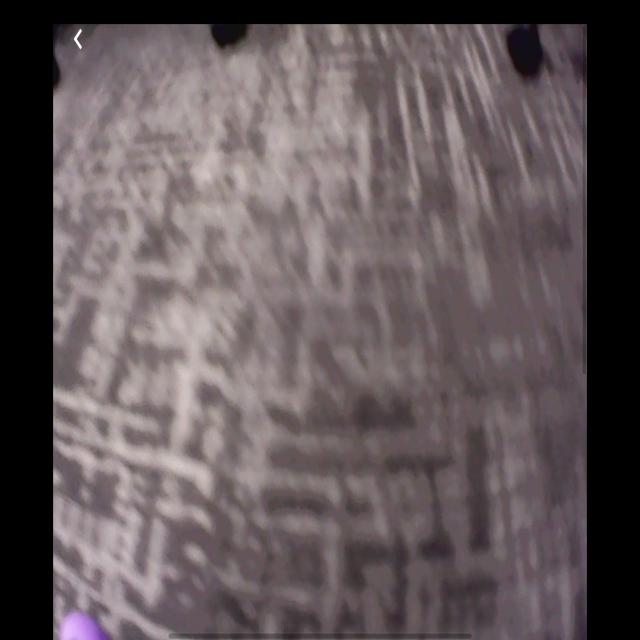ball: (59, 611, 109, 640)
